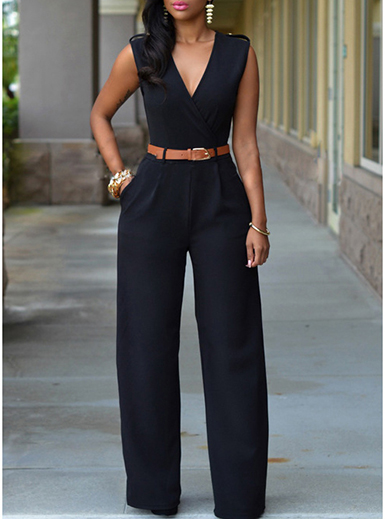feet: (107, 449, 275, 519)
